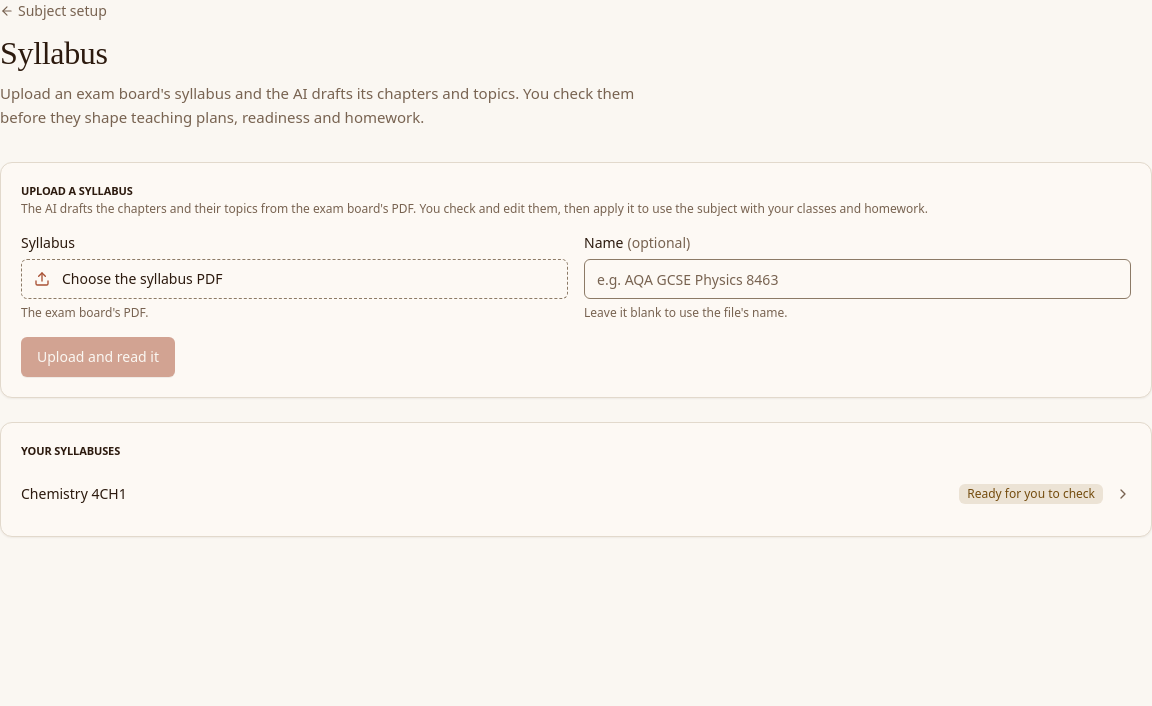
it: the draft renders as chapters holding their own topics
Click the text "Chemistry 4CH1": [74, 493] box [21,484,127,503]
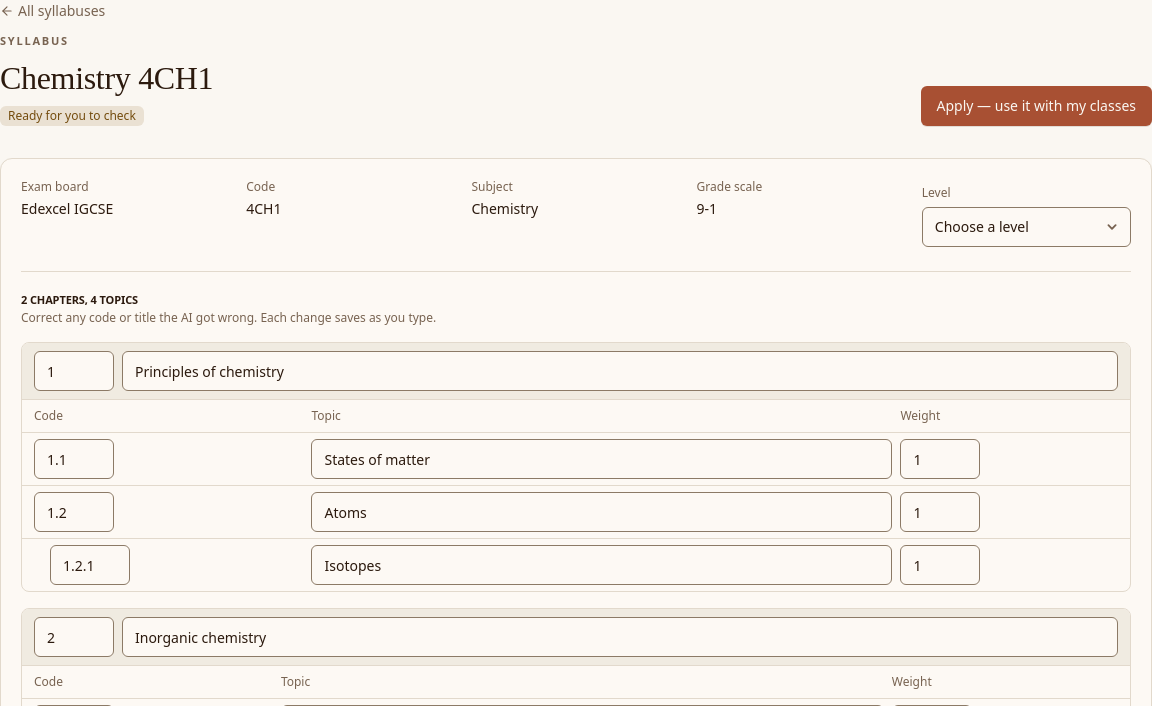
Now the heading "2 chapters, 4 topics" is shown, box [21,292,138,306]
Now the 2nd field showing "Principles of chemistry" is shown, box [122,351,1118,391]
Now the 4th field showing "Inorganic chemistry" is shown, box [122,617,1118,657]
